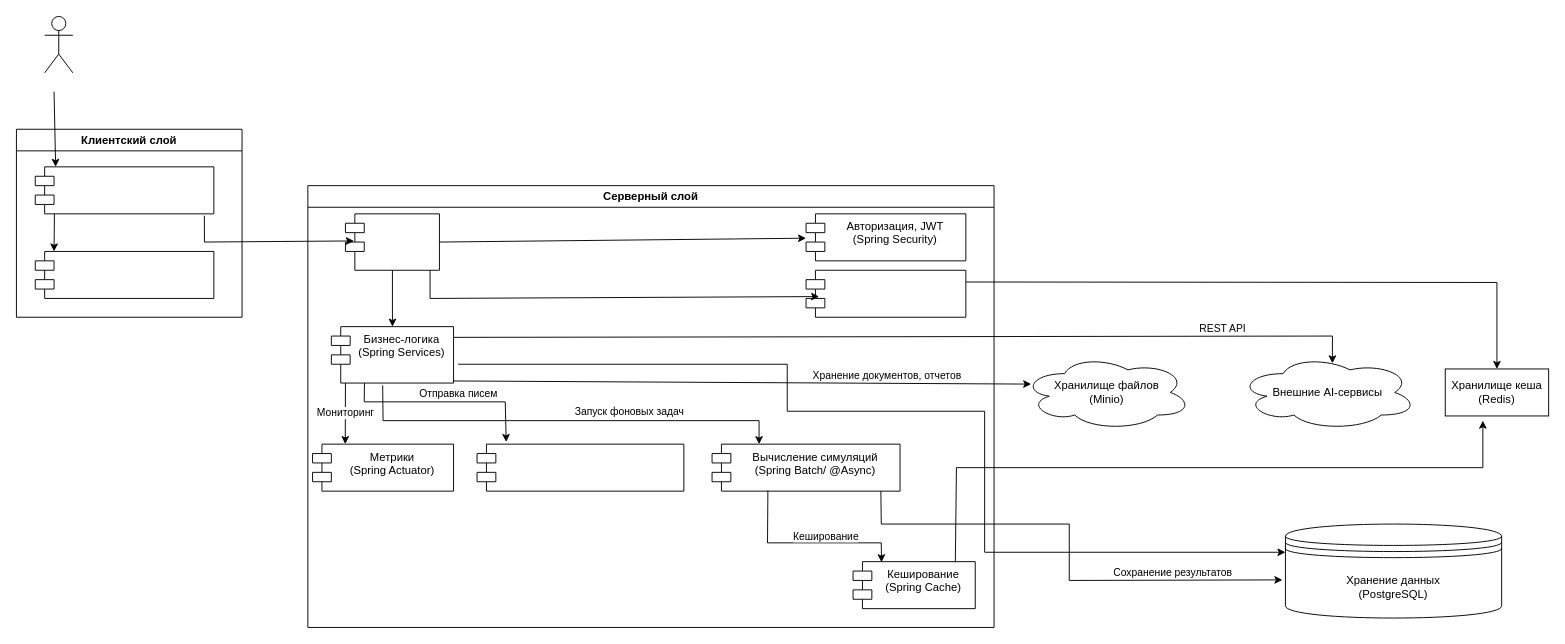
The diagram is 1565 pixels wide and 644 high, and some of its shapes have lost their labels. The shapes that lost their labels are listed below. From the top down, each one's centre as x and y in pixels, then its label:
(x=58, y=44): Пользователь
(x=124, y=190): JavaFX клиент
(x=392, y=241): REST API (Spring web)
(x=124, y=274): WebSocket клиент
(x=885, y=293): Управление сессиями (Spring Session)
(x=580, y=467): Подтверждения, уведомления (Spring Mail)
